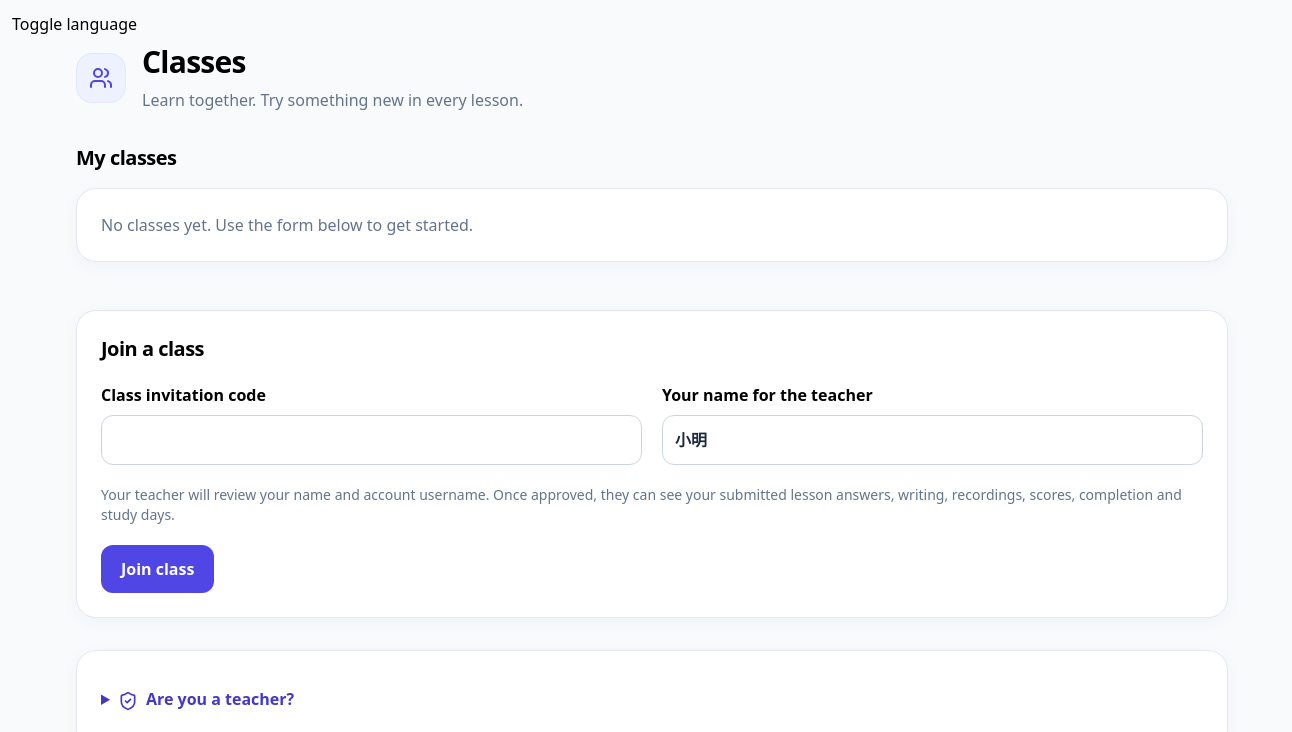
Test: already approved join opens class lessons without practice
Type "ABCD12345678" into the field labelled "Class invitation code" at (372,440), box [101, 415, 642, 465]
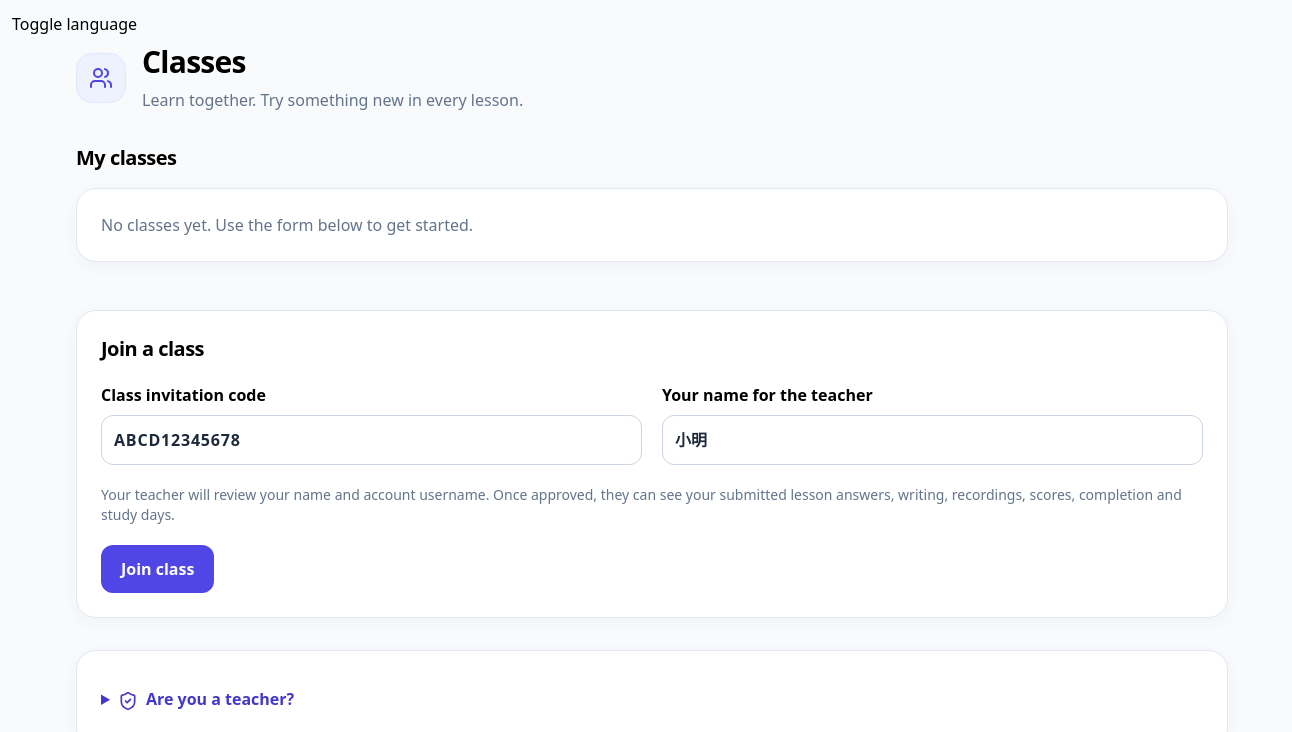
Click the button "Join class" at (158,569), box [101, 545, 214, 593]
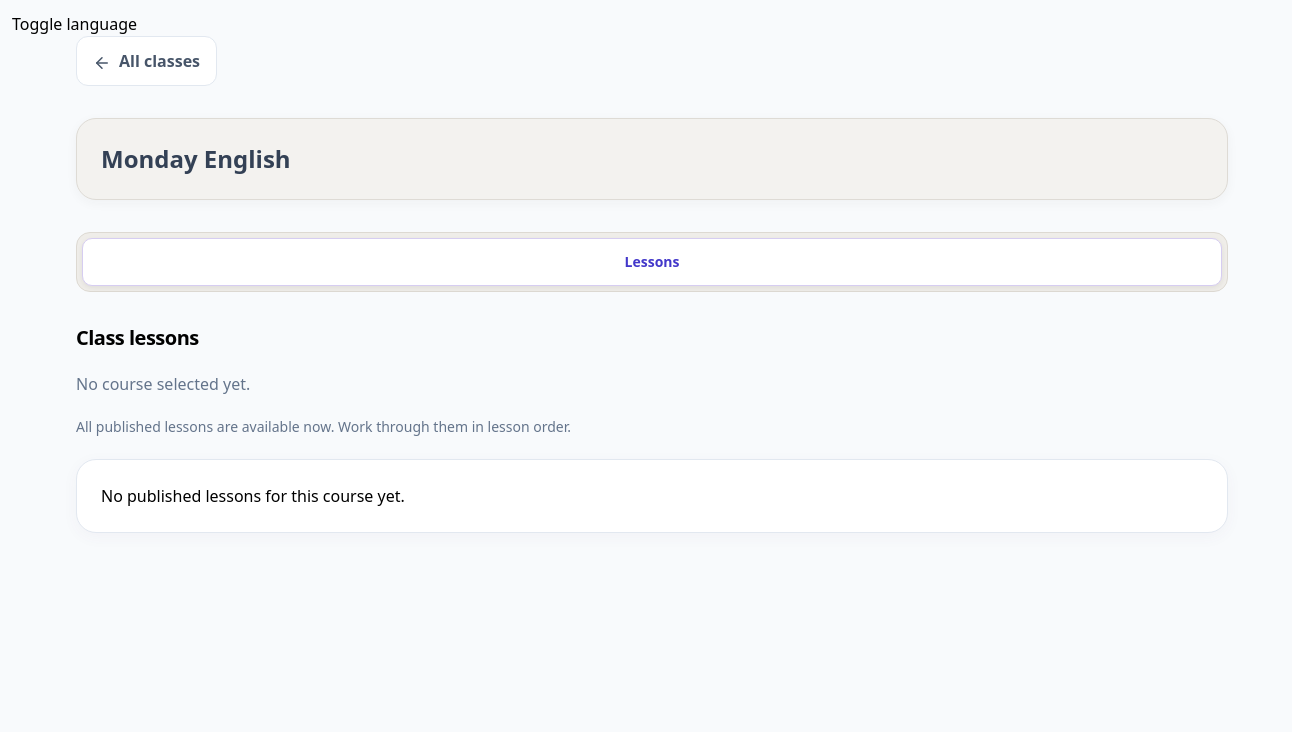
Now the heading "Monday English" is shown, box [101, 142, 291, 175]
